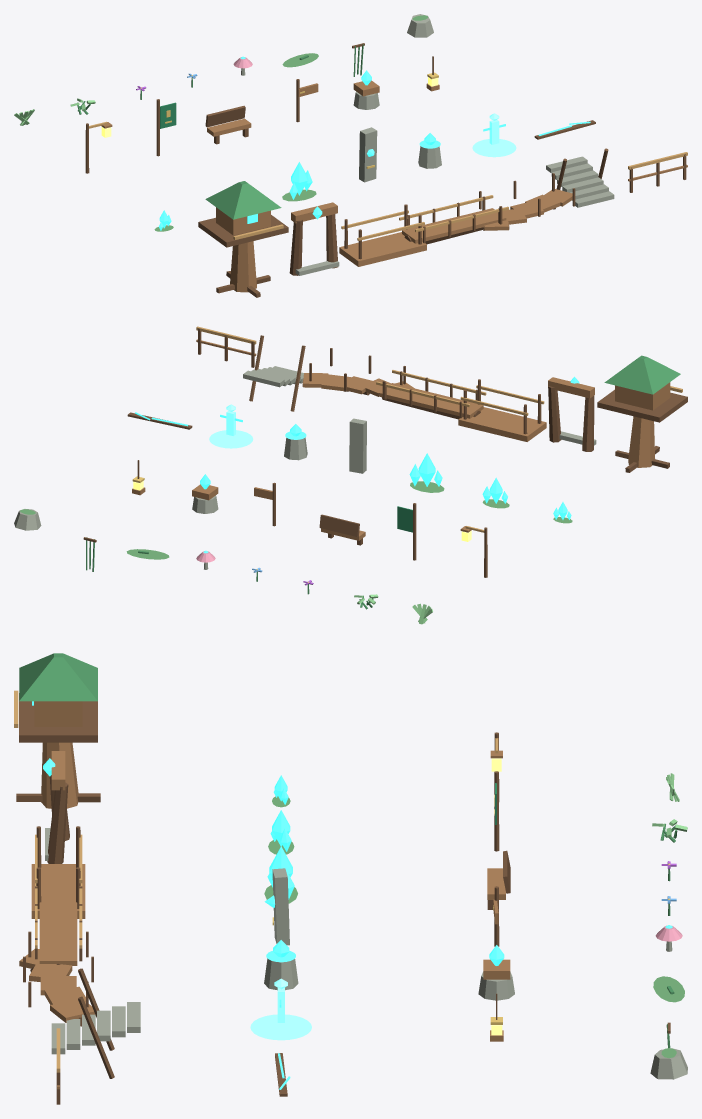
The model's file is thornveil_modular_asset_kit_v001.glb.
3 renders of one model, top to bottom at view 1: azimuth 30°, elevation 25°; view 2: azimuth 150°, elevation 25°; view 3: azimuth 270°, elevation 25°, orthographic. The views are drawn at different scales.
Visible parts, largest first — view 1: ARCH_Sylvaen_TreehouseModule, ARCH_Sylvaen_BalconyPlatform, ARCH_Sylvaen_RootBridgeStraight, ARCH_Sylvaen_StairSegment, ARCH_Sylvaen_ArchedDoorway, ARCH_Sylvaen_RootBridgeCurved, PROPS_Village_WoodenBench, PROPS_Worldroot_MemoryEchoMarker, PROPS_Worldroot_VerdantRuneMonolith, PROPS_Village_SmallShrinePedestal, PROPS_Worldroot_CyanCrystalClusterLarge, ARCH_Sylvaen_RailingSegment (+3 smaller); view 2: ARCH_Sylvaen_TreehouseModule, ARCH_Sylvaen_BalconyPlatform, ARCH_Sylvaen_RootBridgeStraight, ARCH_Sylvaen_ArchedDoorway, ARCH_Sylvaen_RootBridgeCurved, ARCH_Sylvaen_StairSegment, PROPS_Worldroot_VerdantRuneMonolith, PROPS_Worldroot_MemoryEchoMarker, PROPS_Worldroot_CyanCrystalClusterLarge, PROPS_Village_WoodenBench, PROPS_Village_SmallShrinePedestal, ARCH_Sylvaen_RailingSegment (+4 smaller); view 3: ARCH_Sylvaen_TreehouseModule, ARCH_Sylvaen_StairSegment, ARCH_Sylvaen_RootBridgeStraight, ARCH_Sylvaen_RootBridgeCurved, ARCH_Sylvaen_BalconyPlatform, ARCH_Sylvaen_ArchedDoorway, PROPS_Worldroot_MemoryEchoMarker, PROPS_Village_SmallShrinePedestal, PROPS_Worldroot_VerdantRuneMonolith, PROPS_Worldroot_WaypointStone, FOLIAGE_SmallMossyRock, PROPS_Village_WoodenBench (+2 smaller).
Part boxes in pixels (x1,y1,x2,y2): ARCH_Sylvaen_TreehouseModule: (198,181,288,297); ARCH_Sylvaen_BalconyPlatform: (339,204,426,266); ARCH_Sylvaen_RootBridgeStraight: (399,195,508,244); ARCH_Sylvaen_StairSegment: (546,148,614,209); ARCH_Sylvaen_ArchedDoorway: (289,202,339,275); ARCH_Sylvaen_RootBridgeCurved: (479,173,575,230); PROPS_Village_WoodenBench: (205,105,251,144); PROPS_Worldroot_MemoryEchoMarker: (472,113,516,157); PROPS_Worldroot_VerdantRuneMonolith: (359,127,377,182); PROPS_Village_SmallShrinePedestal: (353,70,379,109); PROPS_Worldroot_CyanCrystalClusterLarge: (282,162,316,201); ARCH_Sylvaen_RailingSegment: (628,152,687,192); ARCH_Sylvaen_TreehouseModule: (597,355,687,472); ARCH_Sylvaen_BalconyPlatform: (458,379,546,441); ARCH_Sylvaen_RootBridgeStraight: (376,370,486,419); ARCH_Sylvaen_ArchedDoorway: (548,376,596,451); ARCH_Sylvaen_RootBridgeCurved: (302,348,414,399); ARCH_Sylvaen_StairSegment: (243,335,305,411); PROPS_Worldroot_VerdantRuneMonolith: (349,418,366,473); PROPS_Worldroot_MemoryEchoMarker: (209,404,253,448); PROPS_Worldroot_CyanCrystalClusterLarge: (409,453,444,492); PROPS_Village_WoodenBench: (319,514,365,545); PROPS_Village_SmallShrinePedestal: (192,474,218,513); ARCH_Sylvaen_RailingSegment: (196,326,256,367); ARCH_Sylvaen_TreehouseModule: (14,653,100,808); ARCH_Sylvaen_StairSegment: (51,968,140,1078); ARCH_Sylvaen_RootBridgeStraight: (35,883,82,965); ARCH_Sylvaen_RootBridgeCurved: (19,931,95,1026); ARCH_Sylvaen_BalconyPlatform: (31,826,85,918); ARCH_Sylvaen_ArchedDoorway: (43,751,69,863); PROPS_Worldroot_MemoryEchoMarker: (250,978,311,1040); PROPS_Village_SmallShrinePedestal: (478,945,514,1000); PROPS_Worldroot_VerdantRuneMonolith: (264,868,289,945); PROPS_Worldroot_WaypointStone: (264,940,298,990); FOLIAGE_SmallMossyRock: (650,1048,687,1079); PROPS_Village_WoodenBench: (487,850,510,909).
Size of the model in its own units: 21.43 by 5.78 by 18.76.
